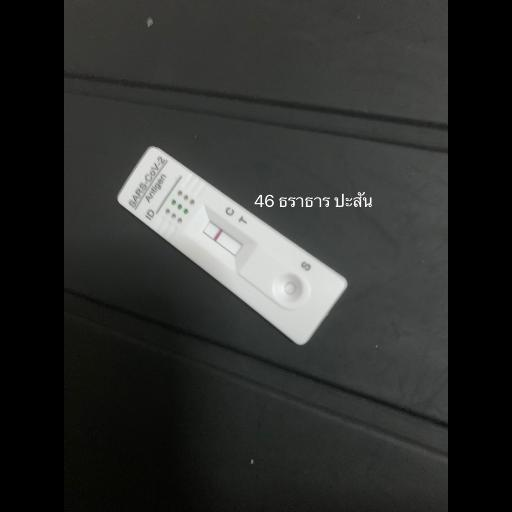Neg: (116, 144, 351, 350)
